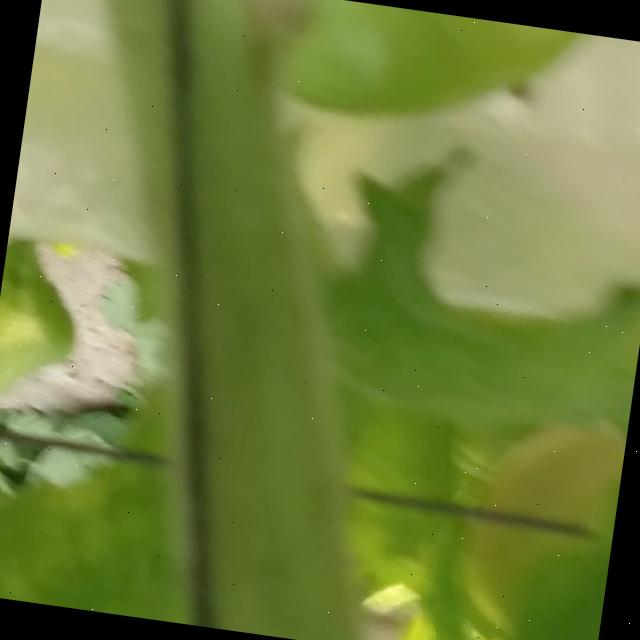tomato: (0, 0, 640, 424)
